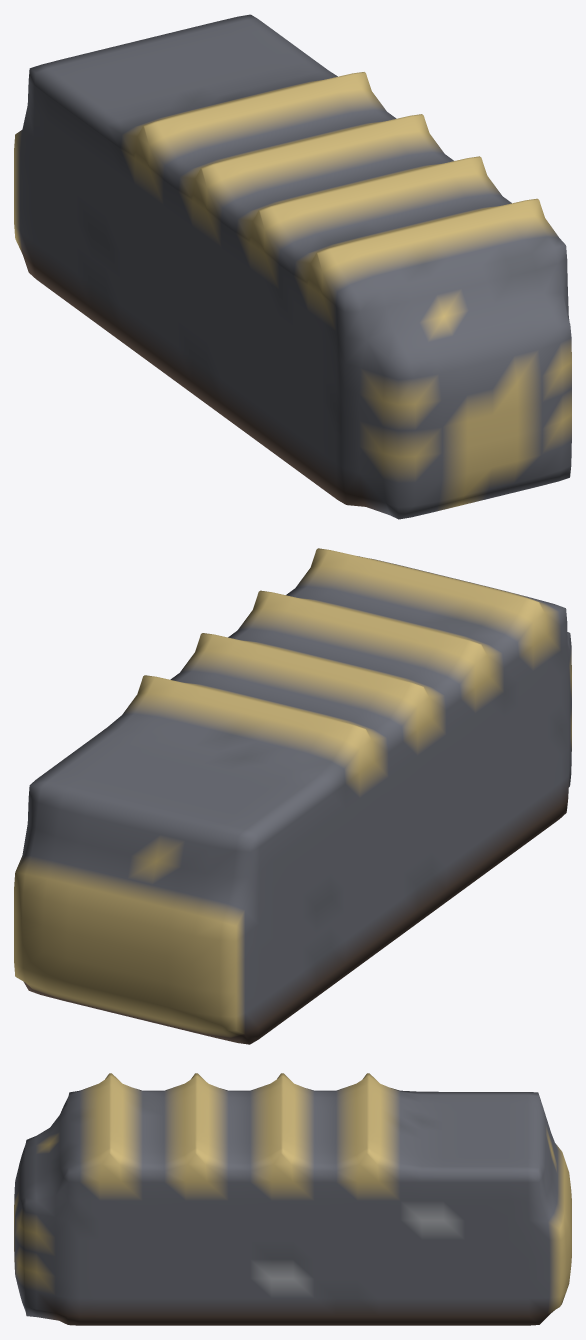
The model's file is plate_legendary_boot_foot_L.glb.
3 renders of one model, top to bottom at view 1: azimuth 30°, elevation 25°; view 2: azimuth 150°, elevation 25°; view 3: azimuth 270°, elevation 25°, orthographic. The views are drawn at different scales.
Visible parts, largest first — view 1: plate_legendary_boot_foot_L; view 2: plate_legendary_boot_foot_L; view 3: plate_legendary_boot_foot_L.
Boxes of the visible parts, x1,y1,x2,y2 form: plate_legendary_boot_foot_L: (14,14,571,519); plate_legendary_boot_foot_L: (14,548,571,1044); plate_legendary_boot_foot_L: (14,1073,571,1325).
Size of the model in its own units: 0.108 by 0.1076 by 0.3118.
